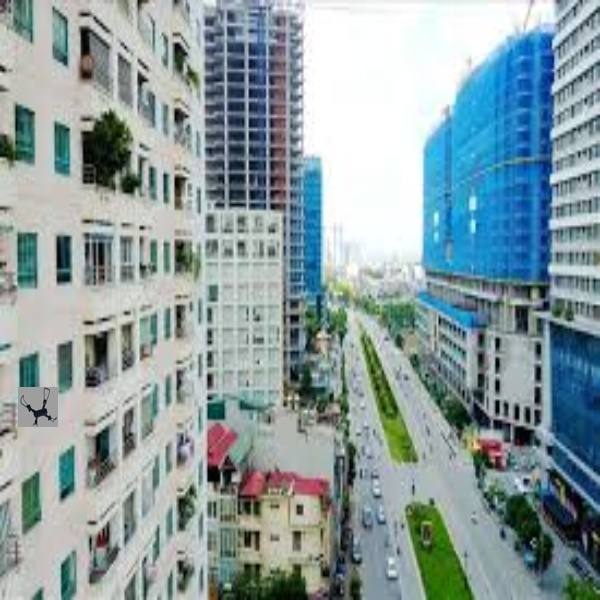drone: (19, 387, 61, 428)
